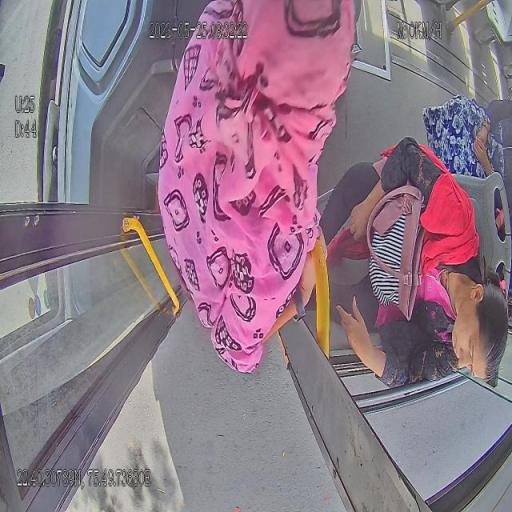persona: (156, 0, 361, 374), (314, 136, 508, 390), (422, 94, 508, 238)
